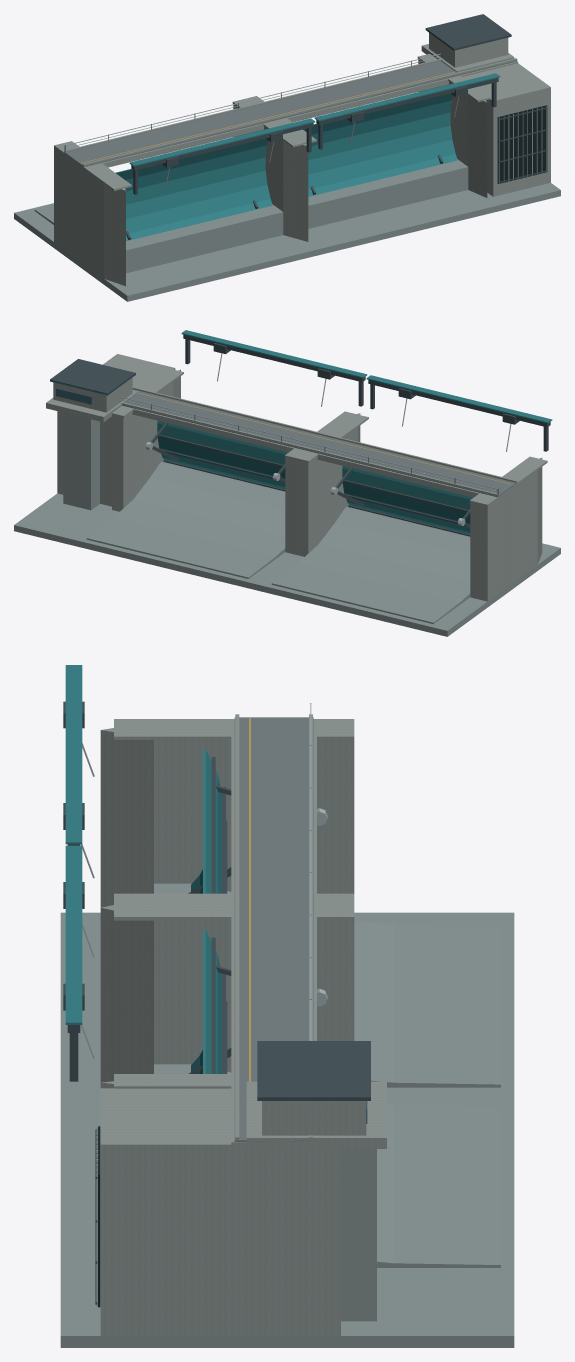
File: Dam_Module75_LOD1.glb
The picture shows the model from 3 angles, top to bottom: view 1: azimuth 30°, elevation 25°; view 2: azimuth 150°, elevation 25°; view 3: azimuth 270°, elevation 25°; orthographic projection. The views are drawn at different scales.
Visible parts, largest first — view 1: Dam_Module75_LOD1; view 2: Dam_Module75_LOD1; view 3: Dam_Module75_LOD1.
Boxes of the visible parts, x1,y1,x2,y2 form: Dam_Module75_LOD1: [14, 14, 560, 301]; Dam_Module75_LOD1: [14, 330, 560, 636]; Dam_Module75_LOD1: [60, 665, 514, 1347].
Bounding box in the file's own units: 75 × 22.08 × 34.
9 materials, 1 textured.
